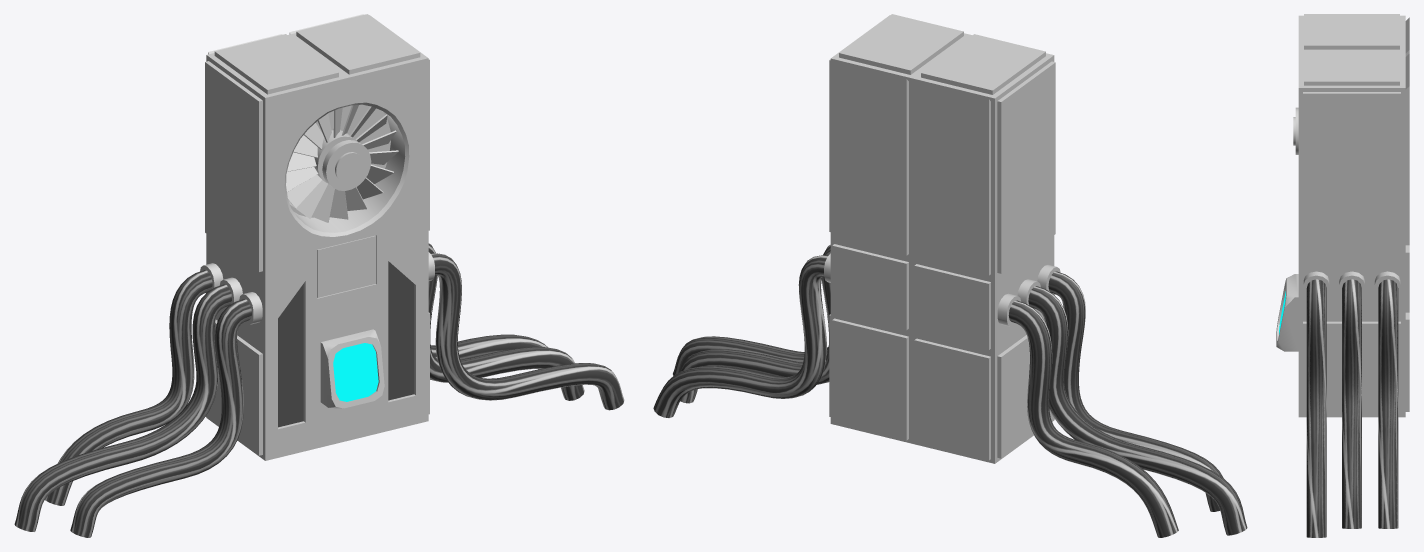
The model's file is Churner0.fbx.
3 renders of one model, left to right at view 1: azimuth 30°, elevation 25°; view 2: azimuth 150°, elevation 25°; view 3: azimuth 270°, elevation 25°, orthographic. The views are drawn at different scales.
Parts seen in each view (by area): view 1: Churner, ChurnerPipe, Fan.blade, ChurnerMonitor, Churner.hatch, Fan.Butress, Fan.Axis; view 2: Churner, ChurnerPipe; view 3: Churner, ChurnerPipe, ChurnerMonitor, Fan.Butress.
Boxes of the visible parts, box(x1,y1,x2,y2) form: Churner: box(200, 14, 434, 460); ChurnerPipe: box(14, 243, 624, 537); Fan.blade: box(286, 105, 398, 222); ChurnerMonitor: box(320, 329, 384, 408); Churner.hatch: box(317, 235, 375, 297); Fan.Butress: box(322, 140, 371, 190); Fan.Axis: box(314, 130, 363, 182); Churner: box(824, 14, 1060, 463); ChurnerPipe: box(653, 245, 1247, 537); Churner: box(1298, 14, 1409, 417); ChurnerPipe: box(1306, 279, 1398, 537); ChurnerMonitor: box(1276, 274, 1298, 351); Fan.Butress: box(1295, 107, 1298, 154).
Size of the model in its own units: 1439 by 956 by 312.
